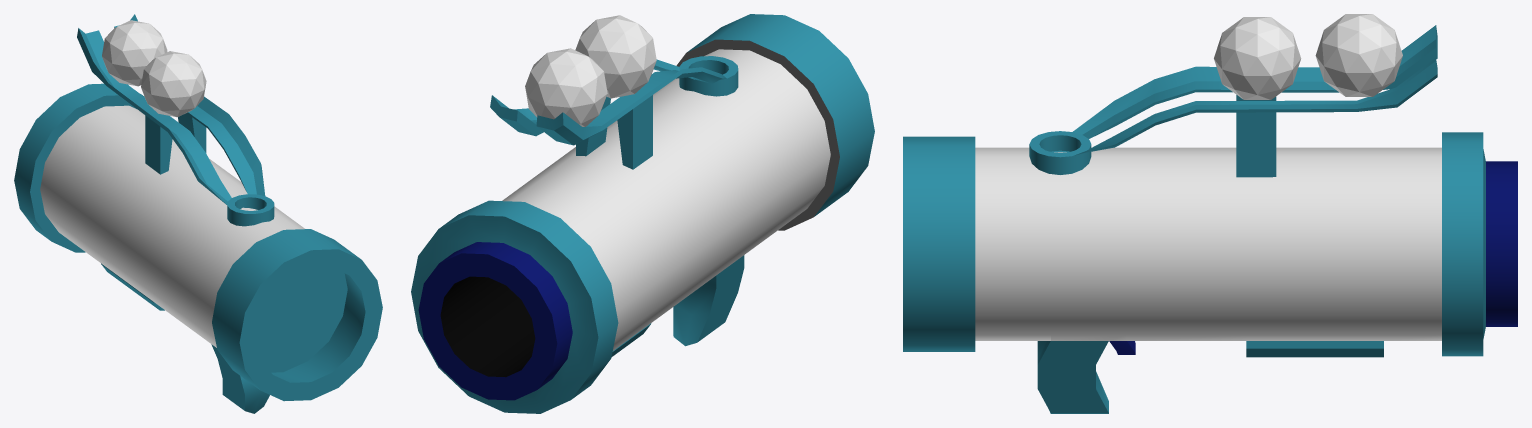
Rendered from snowball_gun.fbx.
The picture shows the model from 3 angles, left to right: view 1: azimuth 30°, elevation 25°; view 2: azimuth 150°, elevation 25°; view 3: azimuth 270°, elevation 25°; orthographic projection. The views are drawn at different scales.
Visible parts, largest first — view 1: snowball_gun, snowball.002, snowball.001; view 2: snowball_gun, snowball.001, snowball.002; view 3: snowball_gun, snowball.001, snowball.002.
Boxes of the visible parts, x1,y1,x2,y2 form: snowball_gun: (14, 14, 382, 413); snowball.002: (141, 51, 206, 117); snowball.001: (102, 20, 167, 86); snowball_gun: (411, 14, 874, 413); snowball.001: (525, 48, 607, 126); snowball.002: (575, 15, 656, 98); snowball_gun: (903, 25, 1517, 413); snowball.001: (1315, 14, 1402, 96); snowball.002: (1214, 17, 1301, 99).
Bounding box in the file's own units: 75.05 × 147 × 206.
